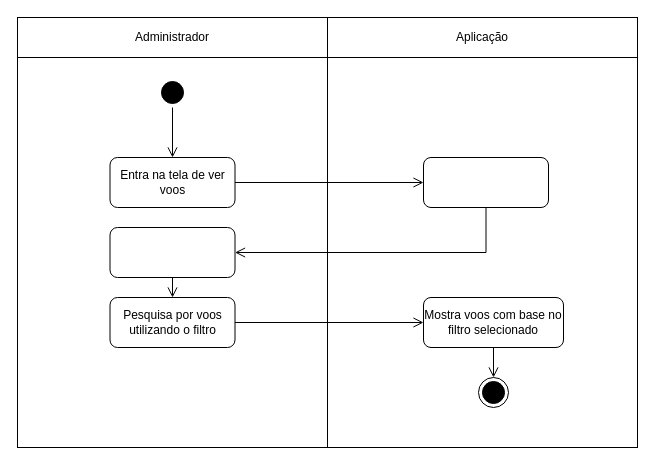
Image size: 655x465. Some labels were removed from this diagram. Here are the shapes that lost their labels. From the top down, the centre of each, then its label:
At pixel 485 182: "Mostra voos".
At pixel 172 252: "Escolhe filtros".
